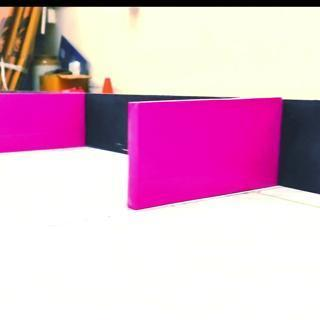xparking: (127, 102, 278, 199), (0, 93, 84, 153)
